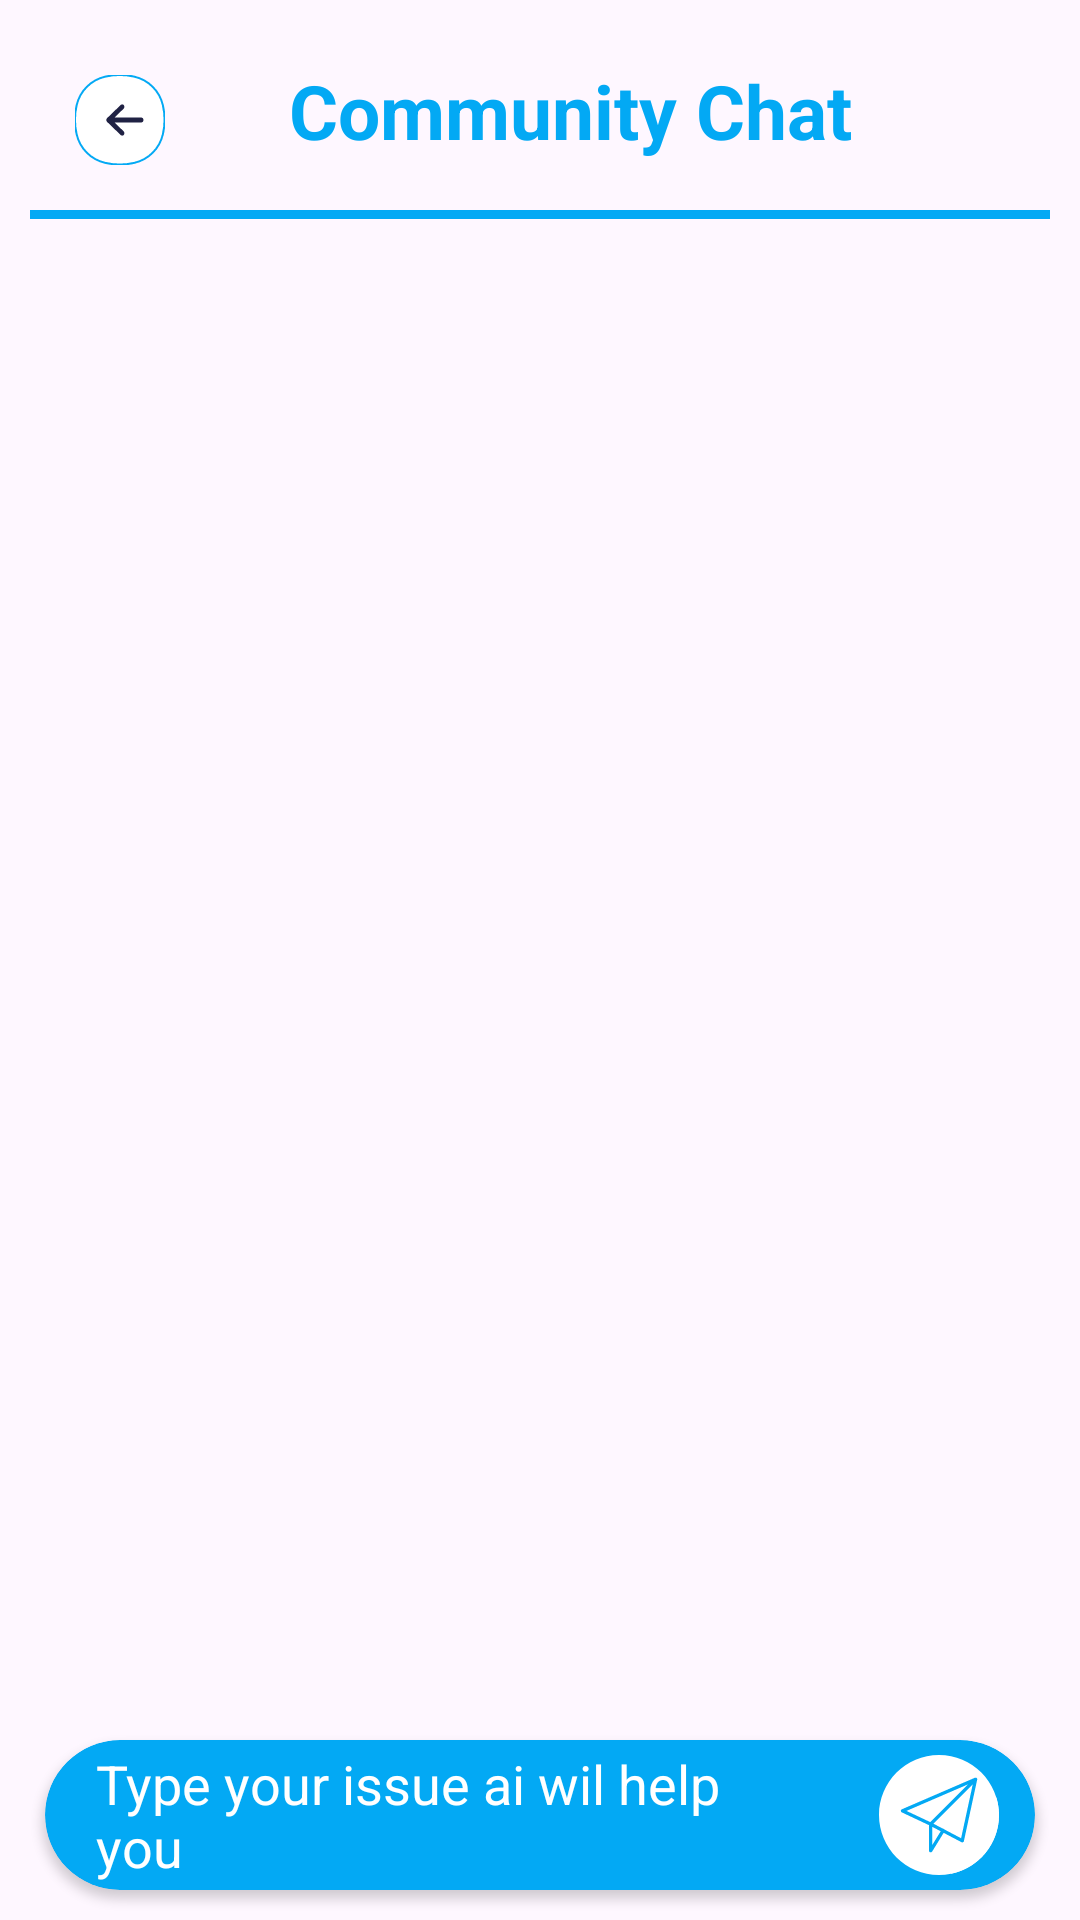

Icons on this 1080px x 1920px Android screen, each with the point to tap as [x,y]:
back: [120,120]
send: [939,1815]
